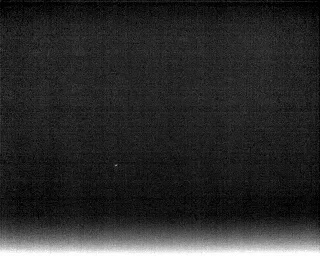AIRPLANE: (111, 161, 120, 171)
